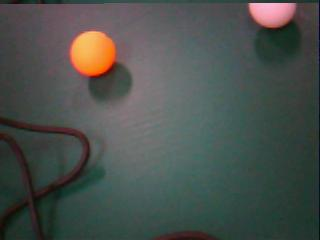oball: (70, 30, 116, 77)
